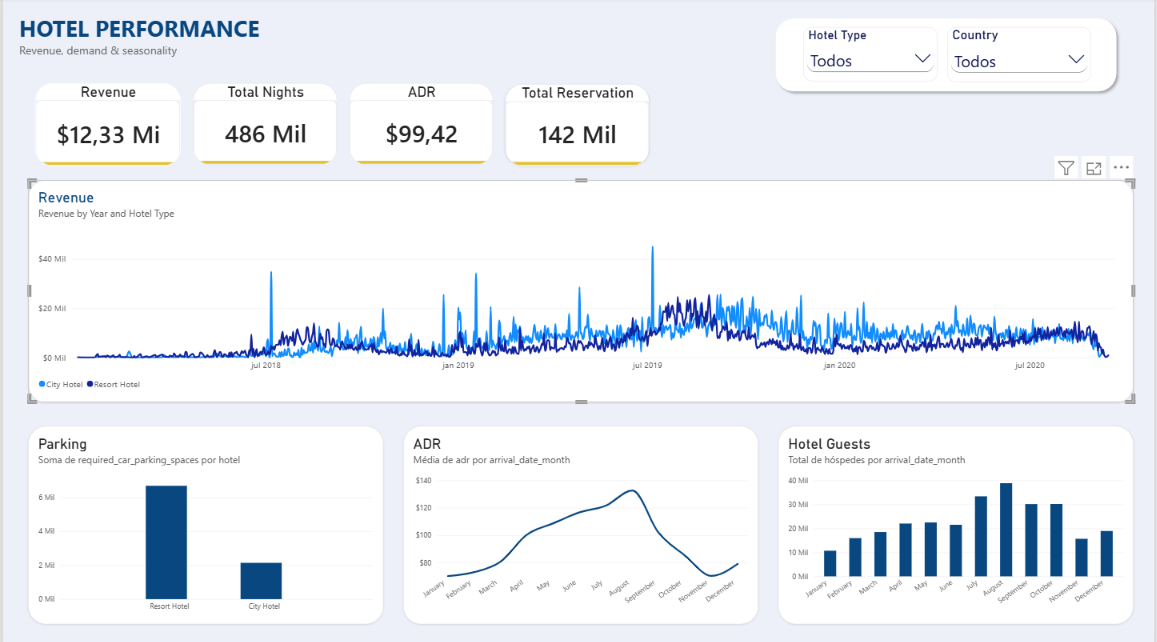

What the dashboard file says about the page in this screenshot:
{"tool":"powerbi","page":{"name":"Página 1","canvas":[1920,1080],"ordinal":0},"visuals":[{"type":"shape","box":[1278.5,20.9,586,139.5],"z":0},{"type":"cardVisual","title":"Revenue","fields":{"Data":["Sum(Consulta.Revenue)"]},"box":[53.8,138.5,242.3,138.5],"z":1000},{"type":"cardVisual","title":"ADR","fields":{"Data":["Avg(Consulta.adr)"]},"box":[576.3,138.5,240.4,136.5],"z":2000},{"type":"cardVisual","title":"Total Nights","fields":{"Data":["Consulta.Total Nights"]},"box":[316,138.5,240.4,136.5],"z":3000},{"type":"lineChart","title":"Revenue","fields":{"Category":["Consulta.reservation_status_date"],"Series":["Consulta.hotel"],"Y":["Sum(Consulta.Revenue)"]},"box":[42.3,300,1842.3,371.2],"z":4000},{"type":"columnChart","title":"Parking","fields":{"Category":["Consulta.hotel"],"Y":["Sum(Consulta.required_car_parking_spaces)"]},"box":[41.9,710.4,592.3,330.8],"z":5000},{"type":"cardVisual","title":"Total Reservation","fields":{"Data":["Consulta.Total de reservas"]},"box":[836.5,140.4,240.4,136.5],"z":6000},{"type":"lineChart","title":"ADR","fields":{"Category":["Consulta.arrival_date_month"],"Y":["Avg(Consulta.adr)"]},"box":[666.9,710.4,592.3,330.8],"z":7000},{"type":"slicer","fields":{"Values":["Consulta.hotel"]},"box":[1332.6,45.3,224.4,90.6],"z":8000},{"type":"slicer","fields":{"Values":["Consulta.country"]},"box":[1573.1,44.2,240.4,92.3],"z":9000},{"type":"columnChart","title":"Hotel Guests","fields":{"Category":["Consulta.arrival_date_month"],"Y":["Consulta.Total de hóspedes"]},"box":[1291.9,710.4,592.3,330.8],"z":10000},{"type":"textbox","box":[26.9,21.2,413.5,84.6],"z":11000}]}

Visuals, with their boxes in screenshot pixels (x1, y1, x2, y2), scaled from the page's 1920x1080 canvas onto the 1157x642 screenshot:
shape: {"left": 770, "top": 12, "right": 1124, "bottom": 95}
"Revenue" cardVisual: {"left": 32, "top": 82, "right": 178, "bottom": 165}
"ADR" cardVisual: {"left": 347, "top": 82, "right": 492, "bottom": 163}
"Total Nights" cardVisual: {"left": 190, "top": 82, "right": 335, "bottom": 163}
"Revenue" lineChart: {"left": 25, "top": 178, "right": 1136, "bottom": 399}
"Parking" columnChart: {"left": 25, "top": 422, "right": 382, "bottom": 619}
"Total Reservation" cardVisual: {"left": 504, "top": 83, "right": 649, "bottom": 165}
"ADR" lineChart: {"left": 402, "top": 422, "right": 759, "bottom": 619}
slicer - Consulta.hotel: {"left": 803, "top": 27, "right": 938, "bottom": 81}
slicer - Consulta.country: {"left": 948, "top": 26, "right": 1093, "bottom": 81}
"Hotel Guests" columnChart: {"left": 779, "top": 422, "right": 1135, "bottom": 619}
textbox: {"left": 16, "top": 13, "right": 265, "bottom": 63}
